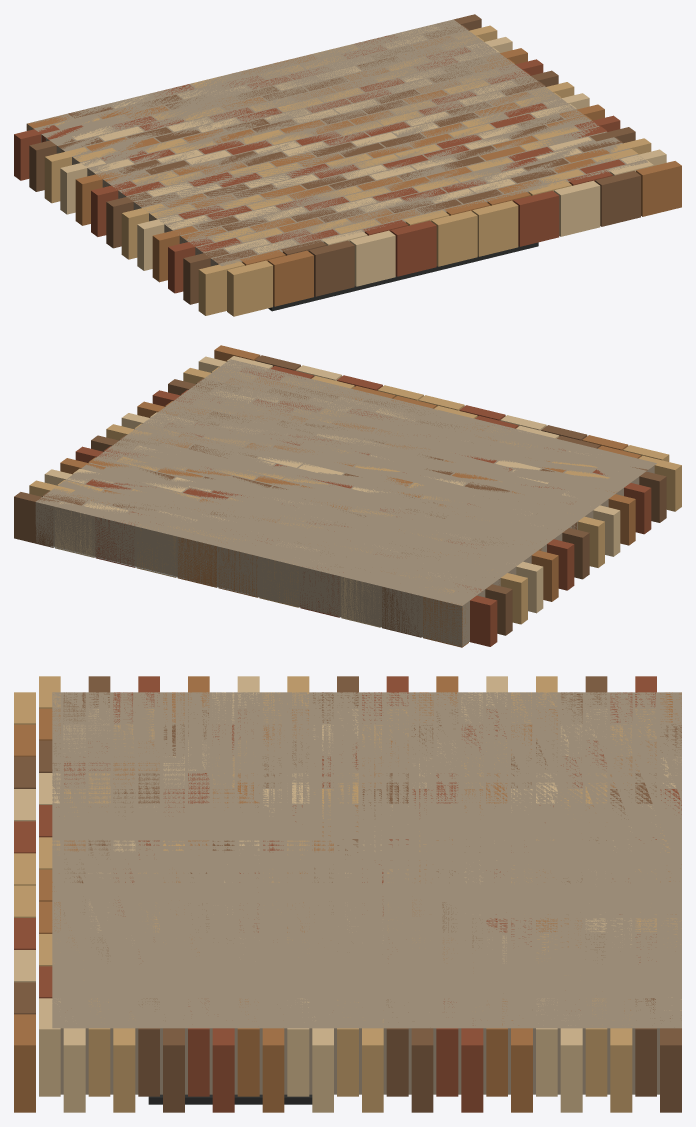
The model's file is signboard_sketchup_1791878469884.obj.
3 views of the same model, one above another, from view 1: azimuth 30°, elevation 25°; view 2: azimuth 150°, elevation 25°; view 3: azimuth 270°, elevation 25° (orthographic). The views are drawn at different scales.
Visible parts, largest first — view 1: Brick_R{row}_X{x.__int__()}, Mortar_Background, Panel_Back; view 2: Mortar_Background, Brick_R{row}_X{x.__int__()}; view 3: Mortar_Background, Brick_R{row}_X{x.__int__()}, Panel_Back.
Boxes of the visible parts, x1,y1,x2,y2 form: Brick_R{row}_X{x.__int__()}: [14, 14, 681, 316]; Mortar_Background: [26, 19, 647, 266]; Panel_Back: [268, 242, 538, 311]; Mortar_Background: [35, 359, 656, 646]; Brick_R{row}_X{x.__int__()}: [14, 345, 681, 647]; Mortar_Background: [52, 692, 681, 1094]; Brick_R{row}_X{x.__int__()}: [14, 676, 681, 1112]; Panel_Back: [148, 1094, 312, 1104].
Size of the model in its own units: 2.64 by 0.474 by 2.02.
